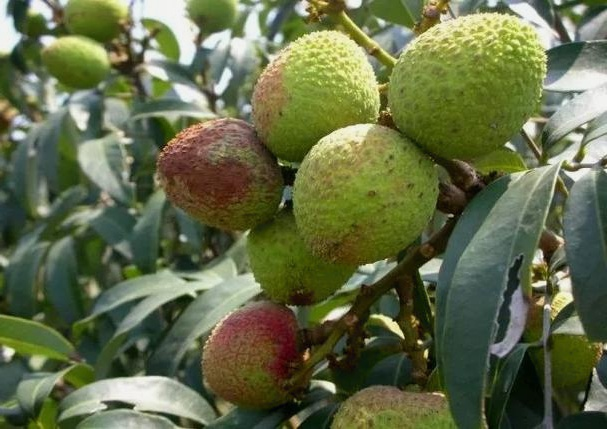Anthracnose: (185, 289, 321, 387), (134, 115, 254, 219), (319, 369, 454, 423), (235, 67, 300, 119)
